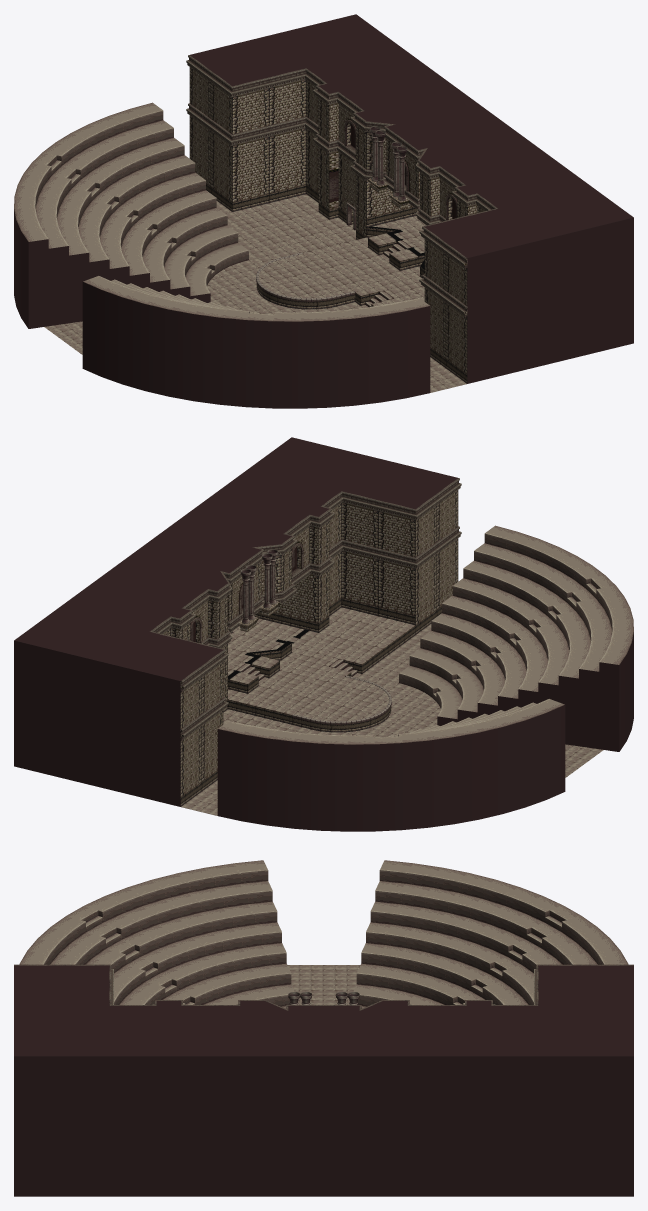
Rendered from ObjMD_Auction_A_Room.FBX.
3 renders of one model, top to bottom at view 1: azimuth 30°, elevation 25°; view 2: azimuth 150°, elevation 25°; view 3: azimuth 270°, elevation 25°, orthographic. The views are drawn at different scales.
Parts seen in each view (by area): view 1: ObjMD_Auction_A_Room; view 2: ObjMD_Auction_A_Room; view 3: ObjMD_Auction_A_Room.
Part boxes in pixels (<box>): ObjMD_Auction_A_Room: <box>14,14,633,408</box>; ObjMD_Auction_A_Room: <box>14,437,633,831</box>; ObjMD_Auction_A_Room: <box>14,860,633,1196</box>.
Bounding box in the file's own units: 4750 × 1338 × 5200.
